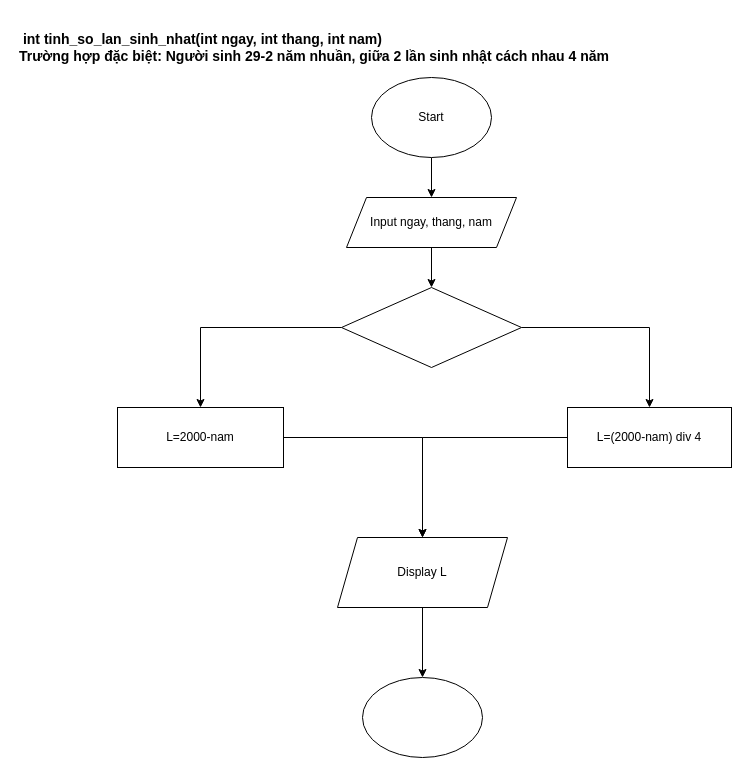
This 749x775 diagram has some shape labels left out. Each missing label, with the centre of its shape:
"End" goes at pixel 422 717.
"ngay=29 && thang=2" goes at pixel 431 327.
